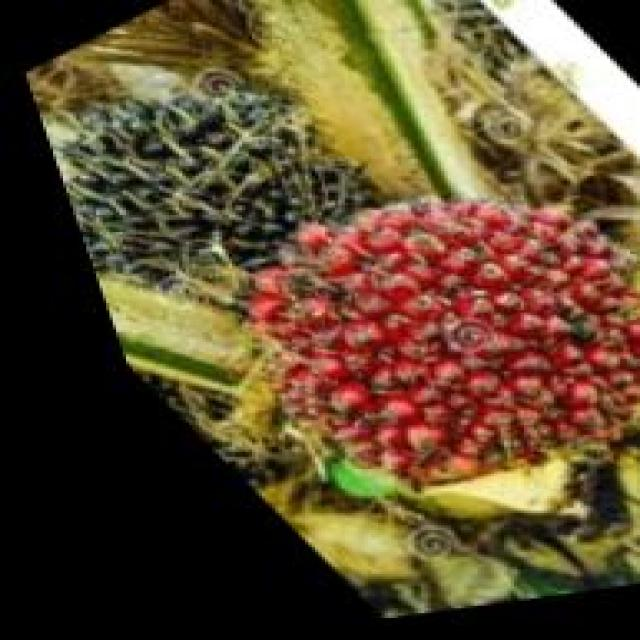Ripefruit: (122, 128, 640, 545)
